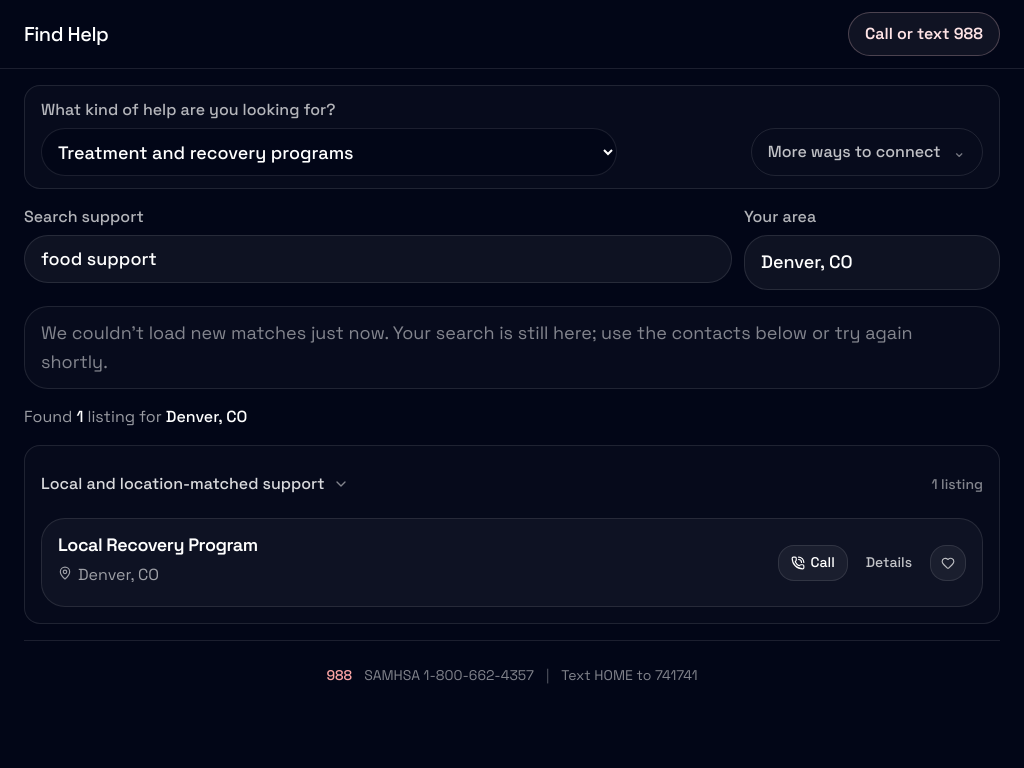
Scenario: real-world assistance search states › keeps resource contact details in the app and omits the removed Bridge session
Check: the heading "Local Recovery Program" is shown, box [58,531,258,560]
Check: the text "Substance use treatment and recovery program." is not shown
Step 1. Click the button "Details" → (889, 563), box [854,545,924,581]
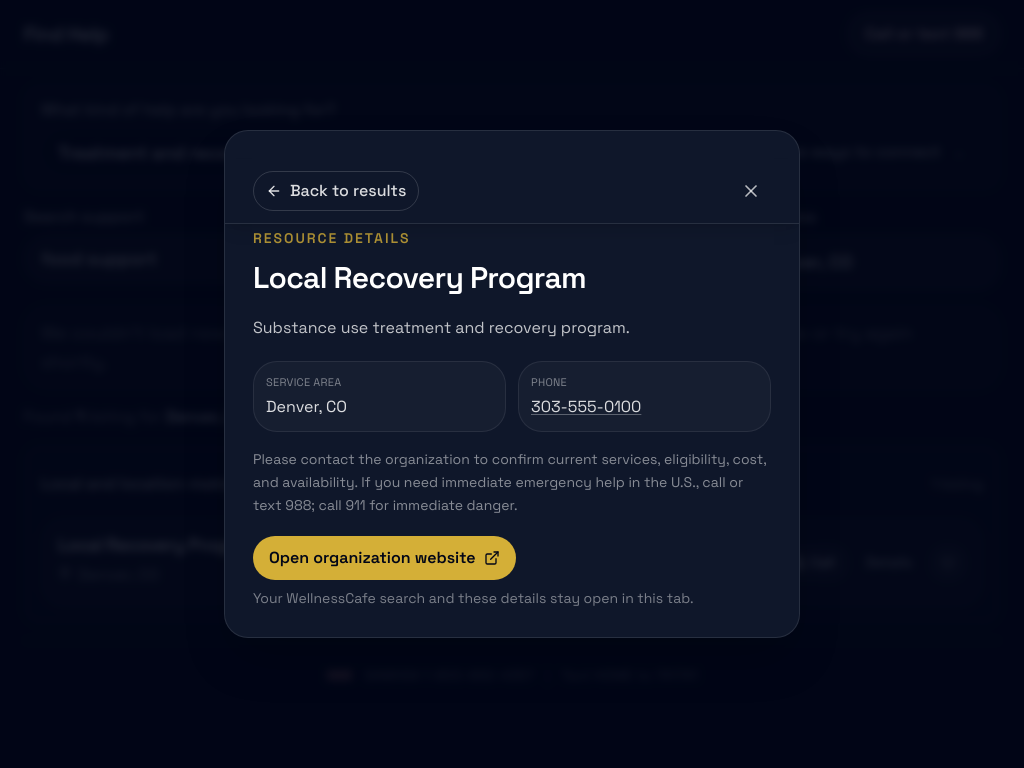
Check: the text "Substance use treatment and recovery program." is shown, box [253,317,630,338]
Check: the dialog shows "Denver", box [266,396,347,417]
Check: the button "Back to results" is shown, box [253,171,419,211]
